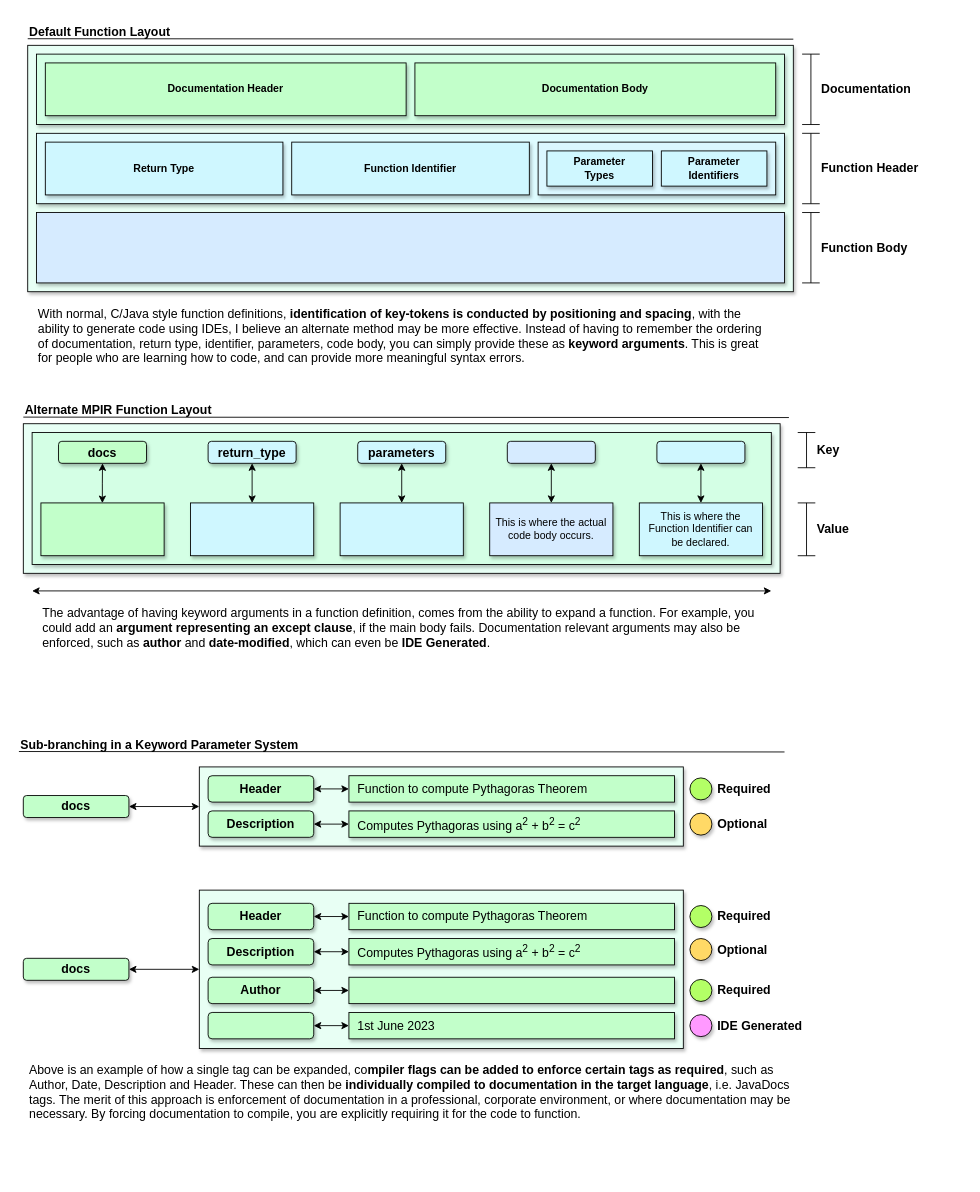
The diagram is 980 pixels wide and 1192 high, and some of its shapes have lost their labels. Here are the shapes that lost their labels. From the top down, the centre of each, then its label:
the point at 411,248: Code Body
the point at 552,453: body
the point at 701,453: id
the point at 103,530: This can be further split using keyword arguments.
the point at 252,530: This shows the return type of the declared function.
the point at 402,530: This is where parameters can be declared, using refinement types.
the point at 512,991: James Gallagher (jgallagher@company.com)
the point at 261,1026: Date
